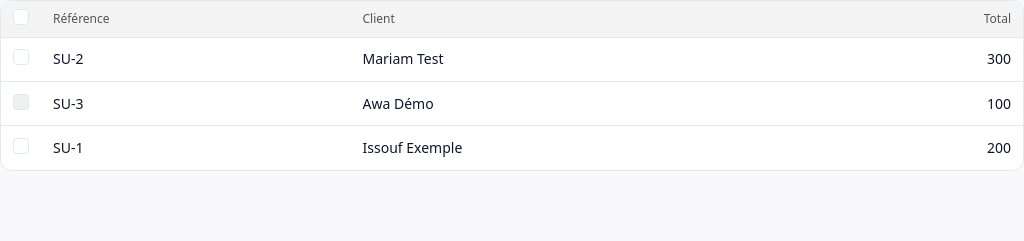
Test case: DataTable — controlled selection › selects the page, skipping rows that are not selectable
The image size is (1024, 241).
Click the checkbox named "Sélectionner toutes les lignes de cette page" at (21,17), box [13,9,29,25]
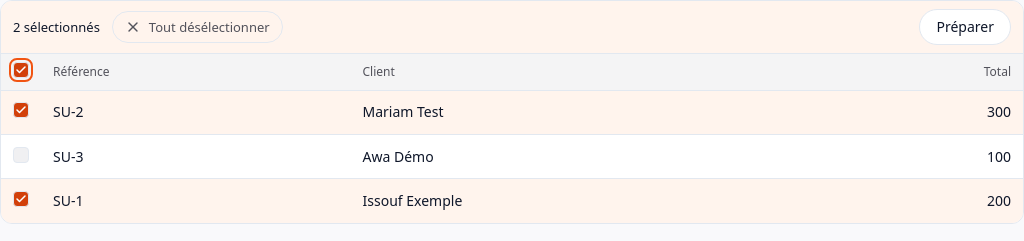
Expected: the checkbox named "Sélectionner SU-3" is disabled, [13,146,29,162]
Expected: the checkbox named "Sélectionner toutes les lignes de cette page" is checked, [13,62,29,78]
Expected: the text "2 sélectionnés" is shown, [13,18,100,36]
